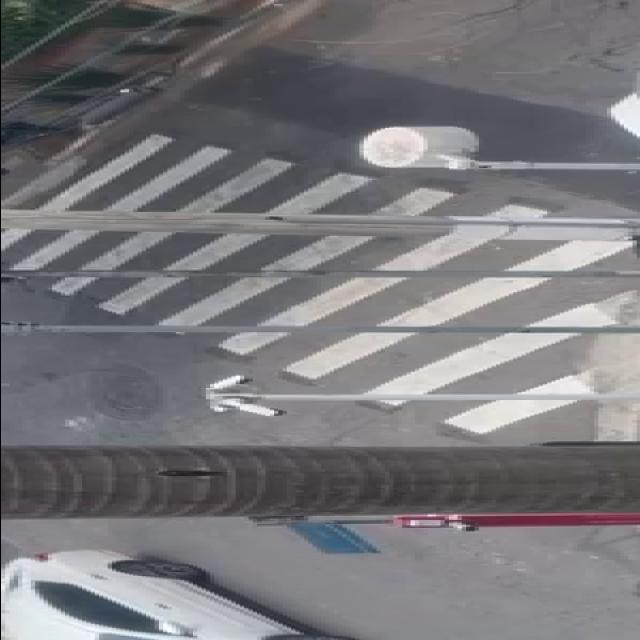car: (2, 540, 296, 640)
